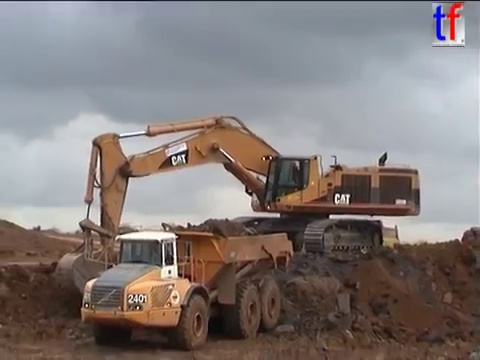excavator: (52, 113, 423, 300)
truck: (78, 227, 297, 351), (350, 223, 402, 253)
